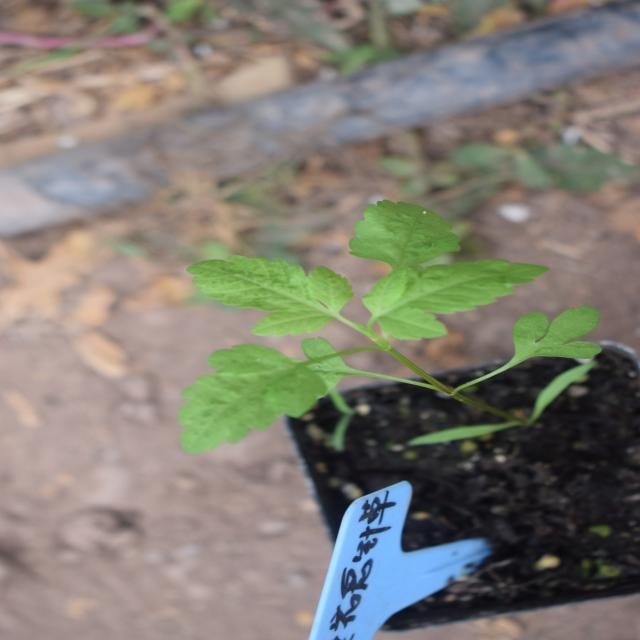Bidens pilosa: (176, 158, 442, 619)
